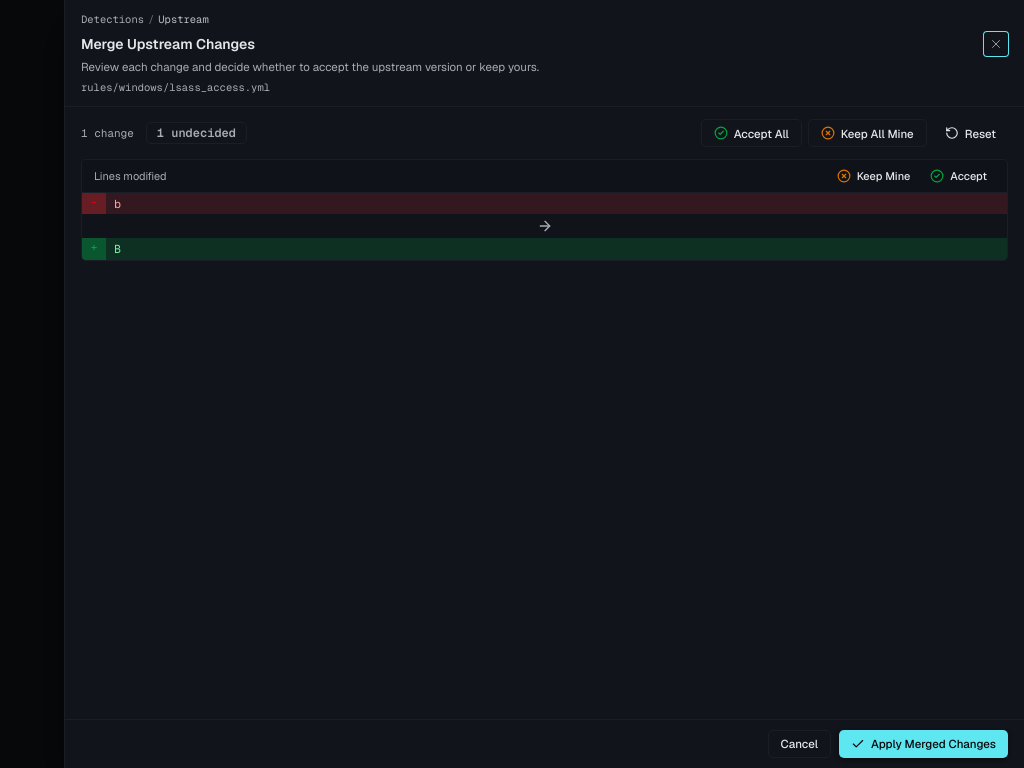
Test: NAN-3209 sheet / dialog conversions › UpstreamMergeModal renders in a DetailSheet with file path meta and footer actions
Expected: the text "rules/windows/lsass_access.yml" is shown, [81,80,270,96]
Expected: the button "Apply Merged Changes" is shown, [839,730,1008,758]
A hunk decision makes the sheet dirty: Esc asks before discarding.
Click the button "Accept All".
click(751, 133)  # box [701,119,802,147]
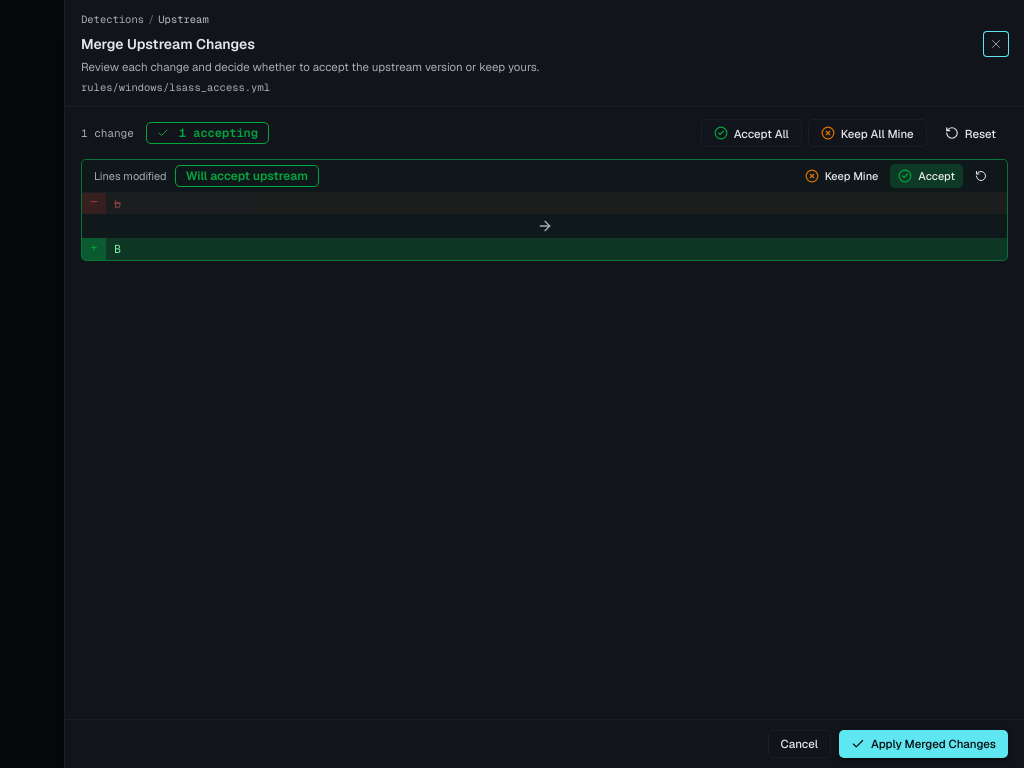
Press Escape in the dialog "Merge Upstream Changes"
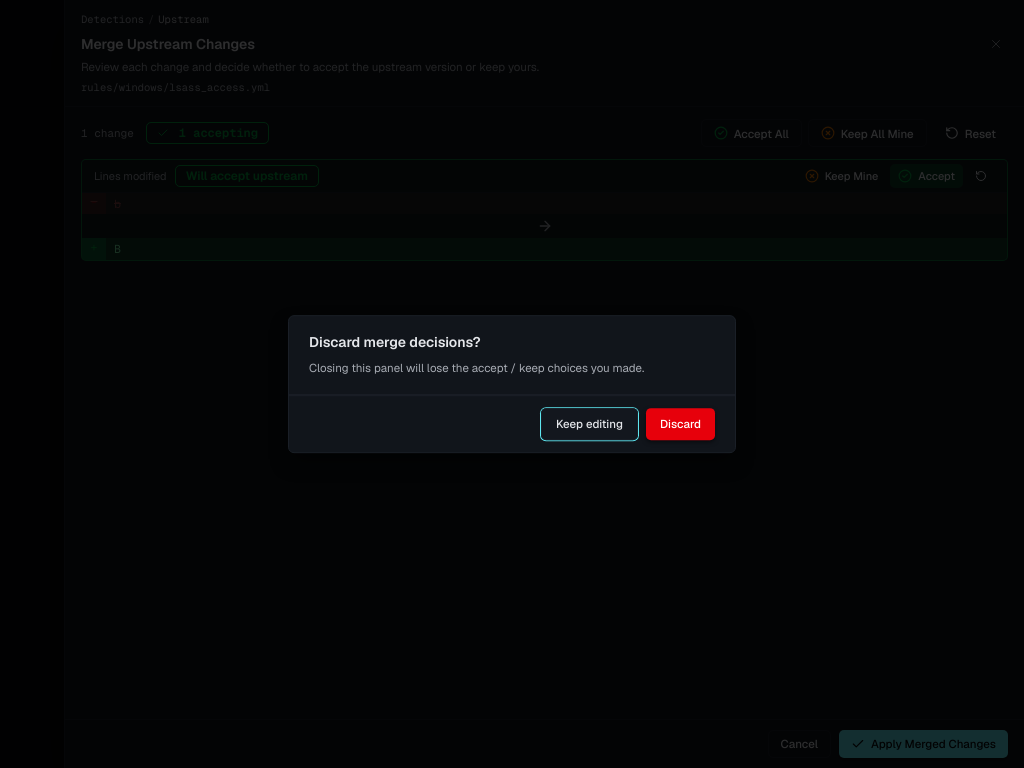
Expected: the heading "Discard merge decisions?" is shown, [309,333,481,351]
